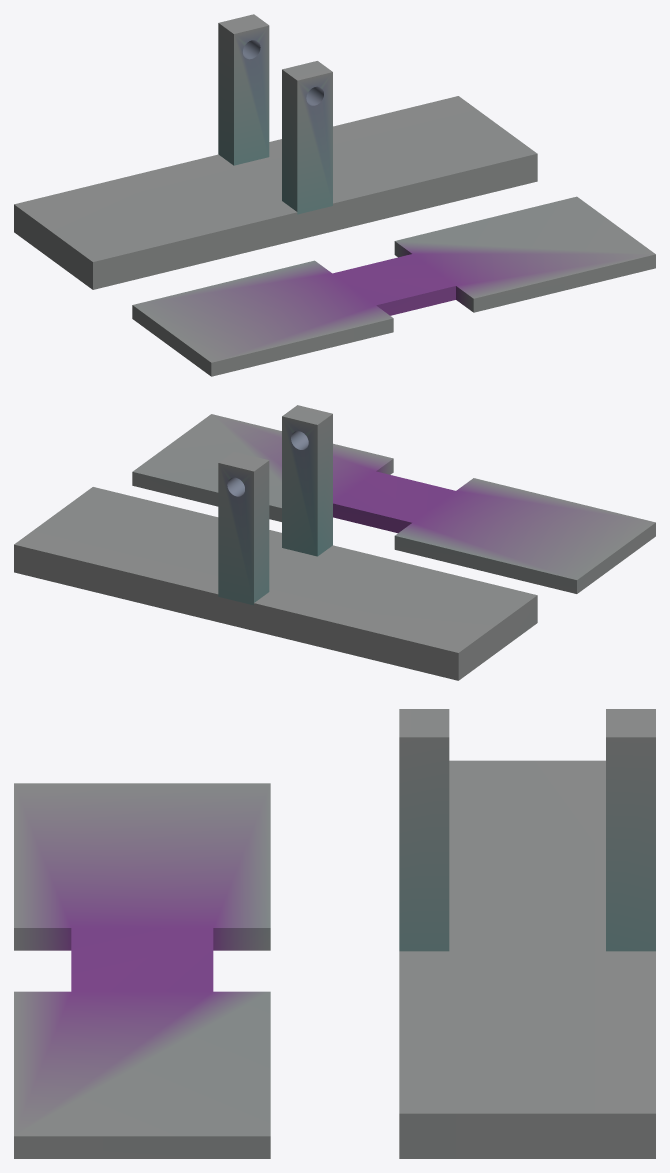
The picture shows the model from 3 angles, top to bottom: view 1: azimuth 30°, elevation 25°; view 2: azimuth 150°, elevation 25°; view 3: azimuth 270°, elevation 25°; orthographic projection. The views are drawn at different scales.
Visible parts, largest first — view 1: plate, waisted_plate, outer_tab, inner_tab; view 2: plate, waisted_plate, outer_tab, inner_tab; view 3: waisted_plate, plate, inner_tab, outer_tab.
Part boxes in pixels (x1,y1,x2,y2): plate: [14, 96, 537, 289]; waisted_plate: [132, 196, 655, 376]; outer_tab: [218, 14, 269, 165]; inner_tab: [282, 61, 332, 214]; plate: [14, 487, 537, 680]; waisted_plate: [132, 414, 655, 593]; outer_tab: [218, 451, 269, 605]; inner_tab: [282, 405, 332, 556]; waisted_plate: [14, 783, 270, 1158]; plate: [399, 760, 655, 1158]; inner_tab: [399, 709, 449, 951]; outer_tab: [606, 709, 655, 951].
Size of the model in its own units: 0.1 by 0.0343 by 0.0769.
